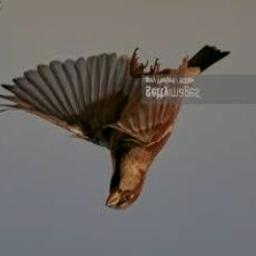Sparrow: (0, 44, 230, 210)
